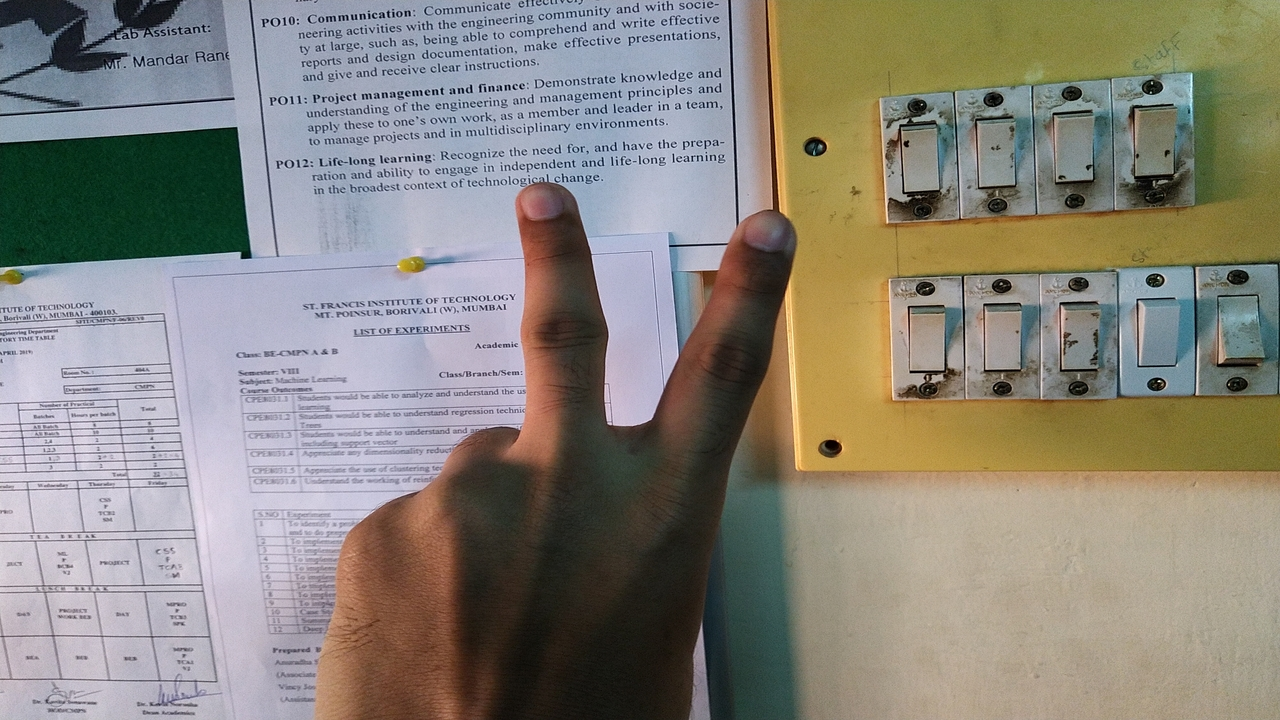fingertip: (734, 204, 800, 274), (508, 176, 580, 236)
